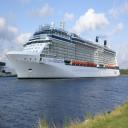cruises: (5, 18, 123, 82)
